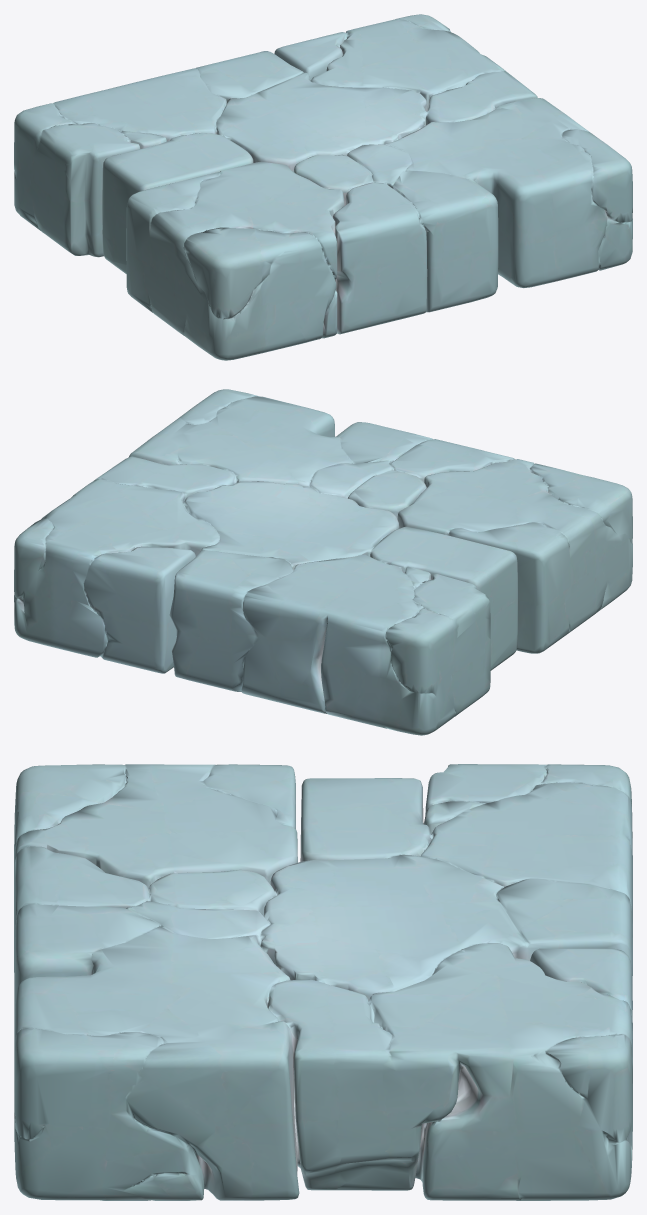
The model's file is platform-stone.glb.
3 views of the same model, one above another, from view 1: azimuth 30°, elevation 25°; view 2: azimuth 150°, elevation 25°; view 3: azimuth 270°, elevation 25° (orthographic). The views are drawn at different scales.
Size of the model in its own units: 1.9 by 0.4561 by 1.66.
1 material, 1 textured.
